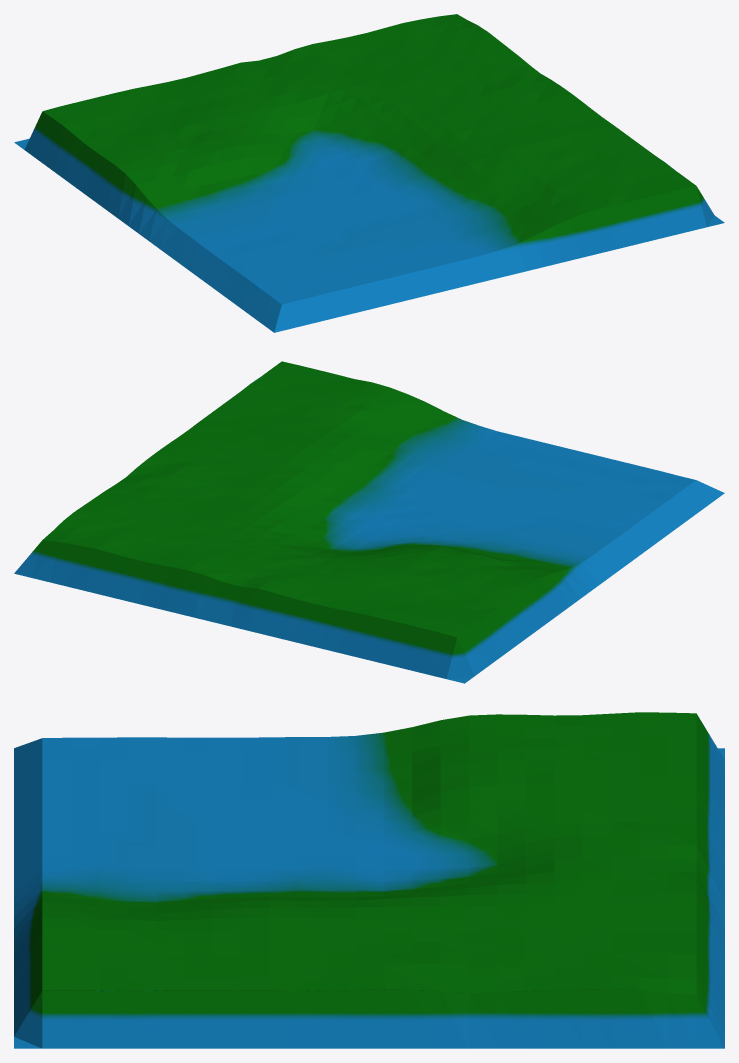
Rendered from Tile5.fbx.
The picture shows the model from 3 angles, top to bottom: view 1: azimuth 30°, elevation 25°; view 2: azimuth 150°, elevation 25°; view 3: azimuth 270°, elevation 25°; orthographic projection. The views are drawn at different scales.
Visible parts, largest first — view 1: ImageToStl.com_5; view 2: ImageToStl.com_5; view 3: ImageToStl.com_5.
Part boxes in pixels (<box>): ImageToStl.com_5: <box>14,14,724,332</box>; ImageToStl.com_5: <box>14,361,724,683</box>; ImageToStl.com_5: <box>14,712,724,1048</box>.
Bounding box in the file's own units: 10417 × 788 × 10417.
Materials: 1 (1 with a texture image).
